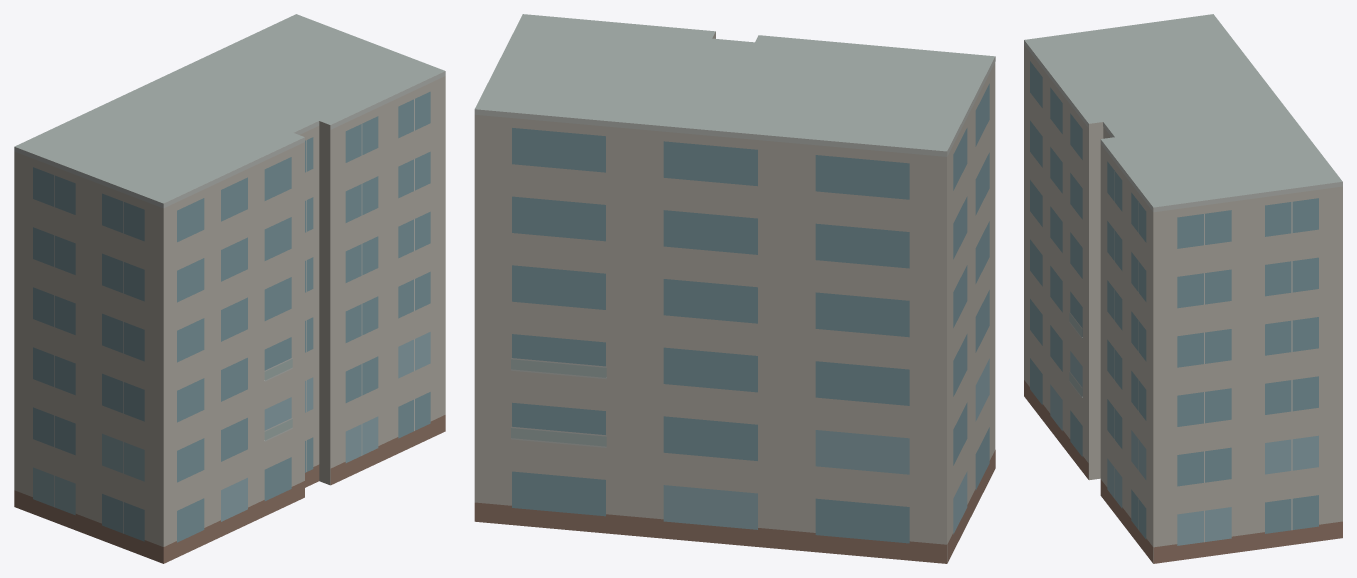
File: survey-upis-32608451.glb
3 views of the same model, side by side, from view 1: azimuth 30°, elevation 25°; view 2: azimuth 150°, elevation 25°; view 3: azimuth 270°, elevation 25° (orthographic). The views are drawn at different scales.
Parts seen in each view (by area): view 1: survey-upis-32608451.tmp; view 2: survey-upis-32608451.tmp; view 3: survey-upis-32608451.tmp.
Boxes of the visible parts, x1,y1,x2,y2 form: survey-upis-32608451.tmp: (14,14,445,563); survey-upis-32608451.tmp: (474,14,995,563); survey-upis-32608451.tmp: (1024,14,1342,563).
Size of the model in its own units: 21.33 by 18.3 by 14.85.
